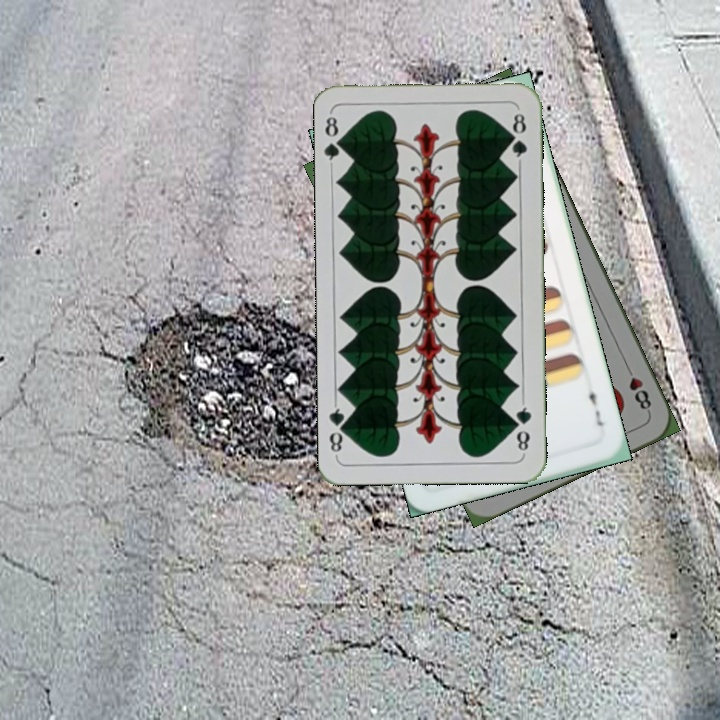E7: (584, 381, 608, 430)
G8: (321, 110, 348, 169), (510, 397, 534, 457)
H8: (621, 361, 654, 416)
